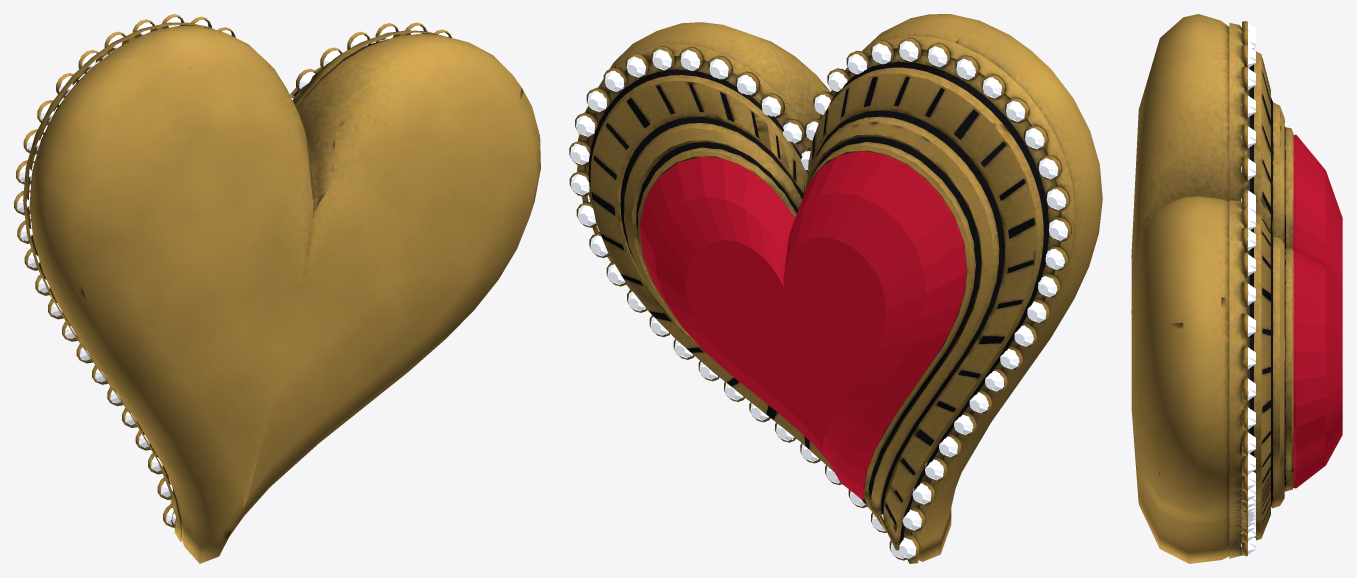
3 views of the same model, side by side, from view 1: azimuth 30°, elevation 25°; view 2: azimuth 150°, elevation 25°; view 3: azimuth 270°, elevation 25° (orthographic). The views are drawn at different scales.
Parts seen in each view (by area): view 1: Polished_champagne_gold, glow_Brilliant_diamond_white; view 2: Polished_champagne_gold, glow_Faceted_ruby, Black_onyx_lacquer, glow_Brilliant_diamond_white; view 3: Polished_champagne_gold, glow_Faceted_ruby, glow_Brilliant_diamond_white, Black_onyx_lacquer.
Part boxes in pixels (x1,y1,x2,y2): Polished_champagne_gold: [14, 14, 540, 563]; glow_Brilliant_diamond_white: [17, 17, 448, 524]; Polished_champagne_gold: [569, 14, 1102, 563]; glow_Faceted_ruby: [640, 151, 966, 499]; Black_onyx_lacquer: [588, 61, 1049, 543]; glow_Brilliant_diamond_white: [570, 41, 1067, 558]; Polished_champagne_gold: [1131, 14, 1293, 563]; glow_Faceted_ruby: [1292, 134, 1342, 488]; glow_Brilliant_diamond_white: [1241, 23, 1255, 554]; Black_onyx_lacquer: [1249, 59, 1286, 523].
Size of the model in its own units: 2.4 by 2.46 by 0.8959.
4 materials, 3 textured.
